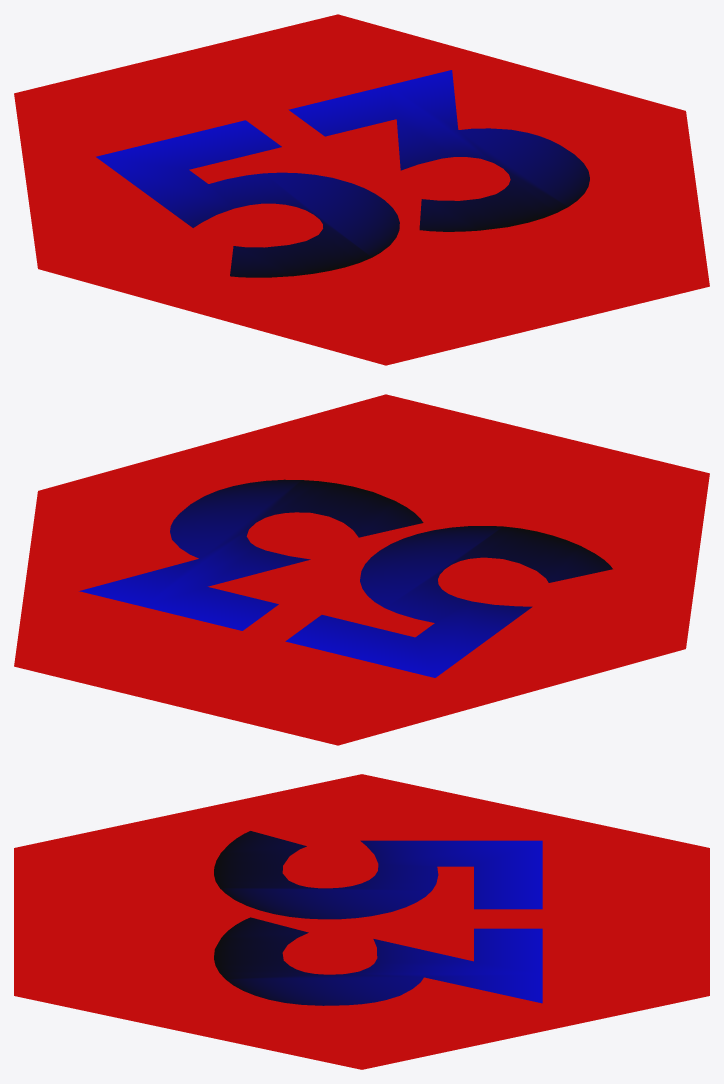
File: SM_Number_53.fbx
The picture shows the model from 3 angles, top to bottom: view 1: azimuth 30°, elevation 25°; view 2: azimuth 150°, elevation 25°; view 3: azimuth 270°, elevation 25°; orthographic projection. The views are drawn at different scales.
Visible parts, largest first — view 1: FBX_OUT; view 2: FBX_OUT; view 3: FBX_OUT.
Boxes of the visible parts, bbox=[...] form: FBX_OUT: bbox=[14, 14, 709, 365]; FBX_OUT: bbox=[14, 394, 709, 745]; FBX_OUT: bbox=[14, 774, 709, 1069].
Size of the model in its own units: 50 by 0.2917 by 49.71.
